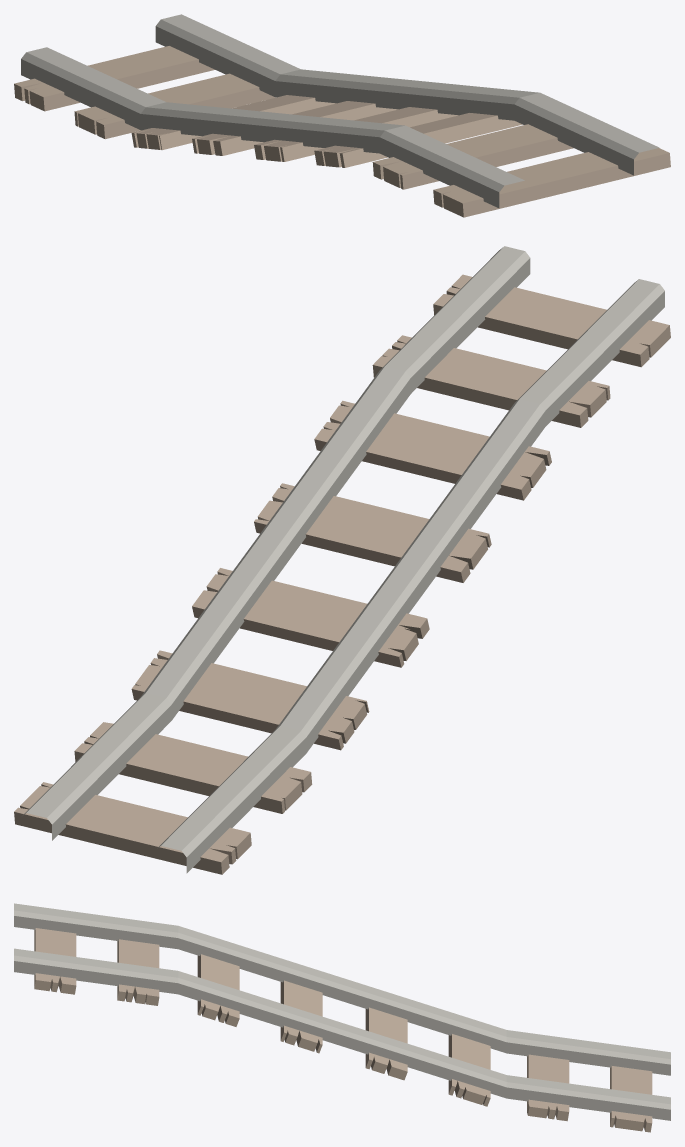
File: Cave_Prop_Railway_Hill_Gentle.glb
3 renders of one model, top to bottom at view 1: azimuth 30°, elevation 25°; view 2: azimuth 150°, elevation 25°; view 3: azimuth 270°, elevation 25°, orthographic. The views are drawn at different scales.
Visible parts, largest first — view 1: Cave_Prop_Railway_Hill_Gentle; view 2: Cave_Prop_Railway_Hill_Gentle; view 3: Cave_Prop_Railway_Hill_Gentle.
Part boxes in pixels (left/top/right/bottom): Cave_Prop_Railway_Hill_Gentle: left=14, top=14, right=670, bottom=217; Cave_Prop_Railway_Hill_Gentle: left=14, top=246, right=670, bottom=874; Cave_Prop_Railway_Hill_Gentle: left=14, top=903, right=670, bottom=1132.
Size of the model in its own units: 1 by 1.13 by 4.
